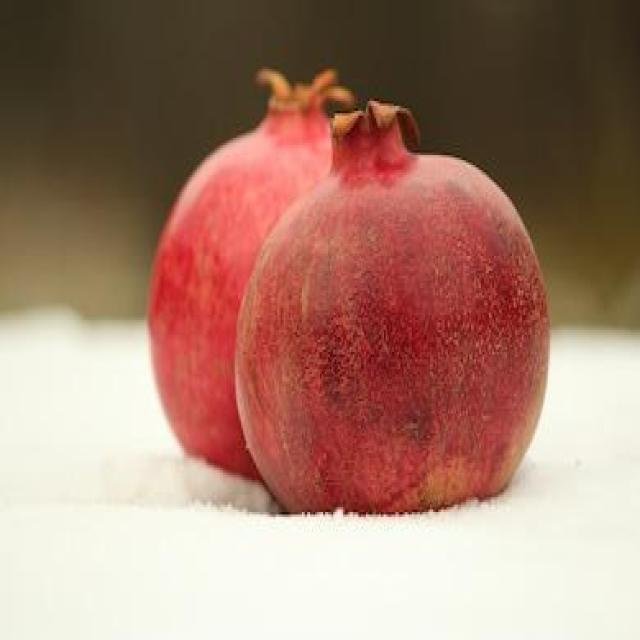Pomegranate: (235, 104, 553, 517)
